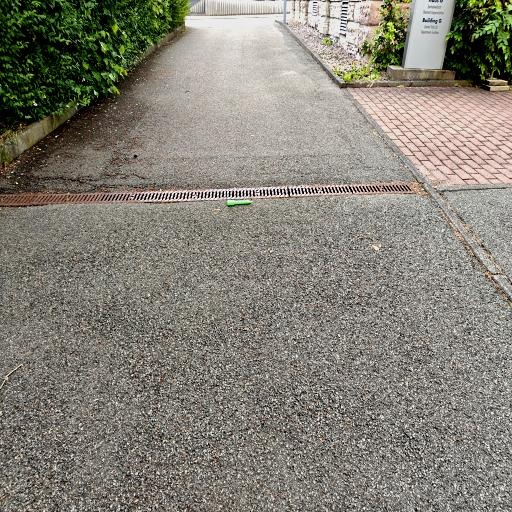Probe-Detection: (227, 200, 252, 206)
